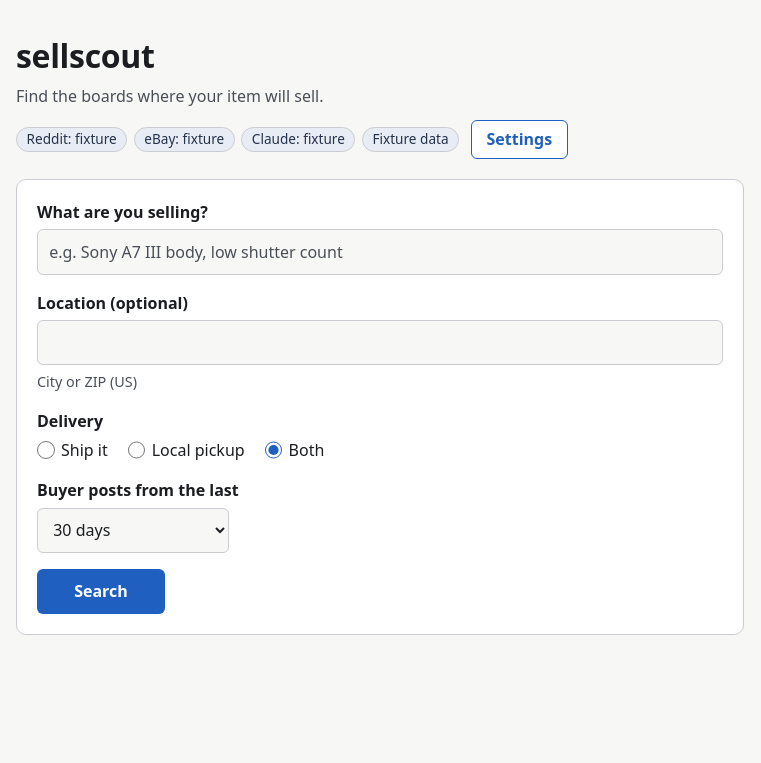
Test: venue row: AI suggested badge › never shows a search link on an AI venue, and keeps safeHref on its board link
This screenshot has width=761, height=763.
Type "mechanical keyboard" into the field labelled "What are you selling?" at {"x": 380, "y": 252}, box [37, 229, 723, 275]
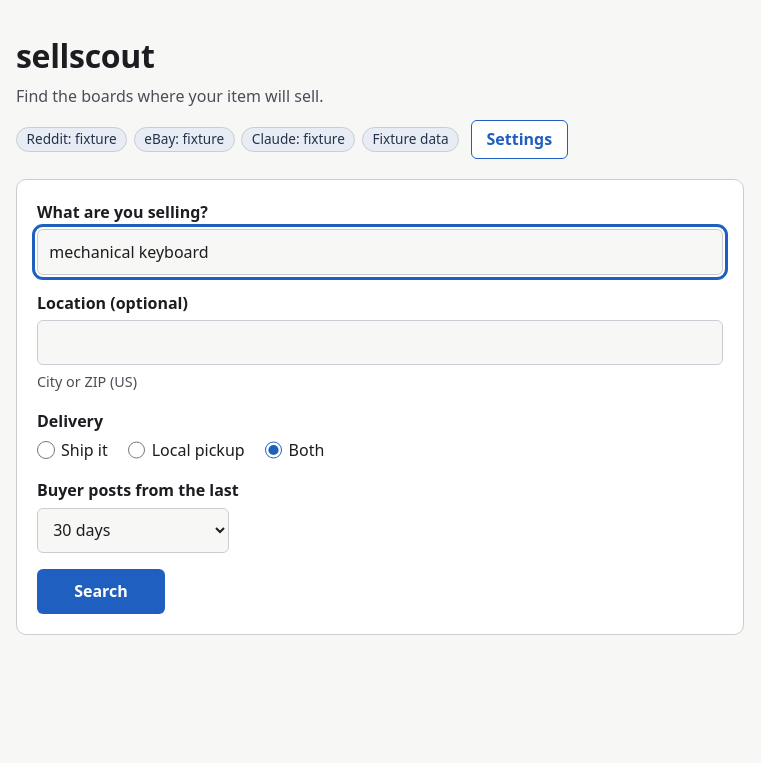
Click the button "Search" at {"x": 101, "y": 591}, box [37, 569, 165, 614]
(page scrolled)
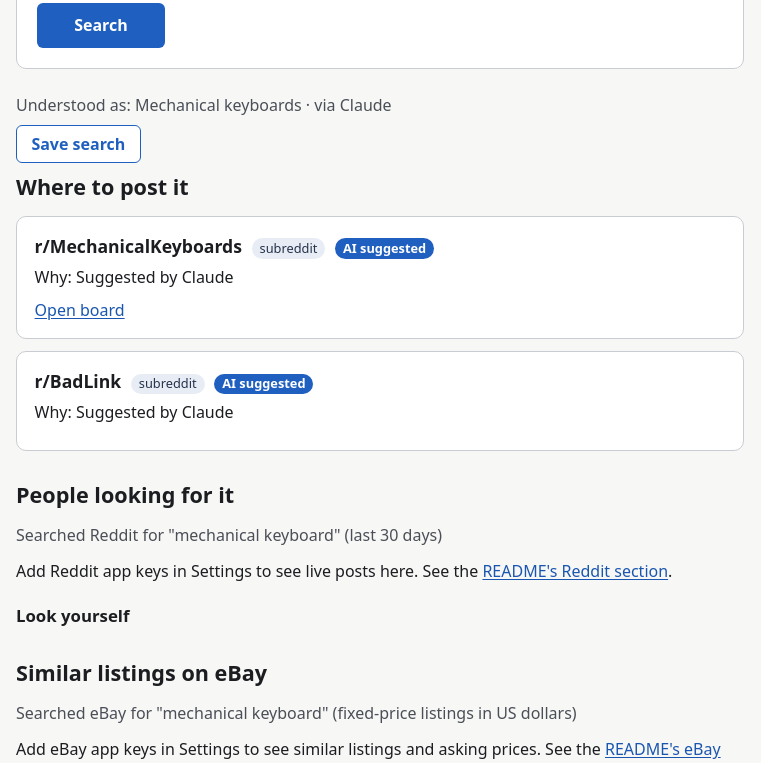
expect the heading "Where to post it" is shown: met, box [16, 172, 189, 202]
expect the link "Open board" is shown: met, box [35, 298, 125, 322]
expect the text "AI suggested" in the row of "r/BadLink" is shown: met, box [222, 374, 306, 392]
